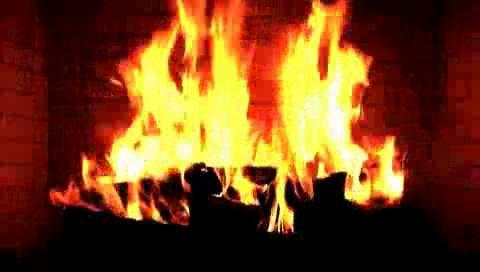fire: (110, 10, 390, 238)
